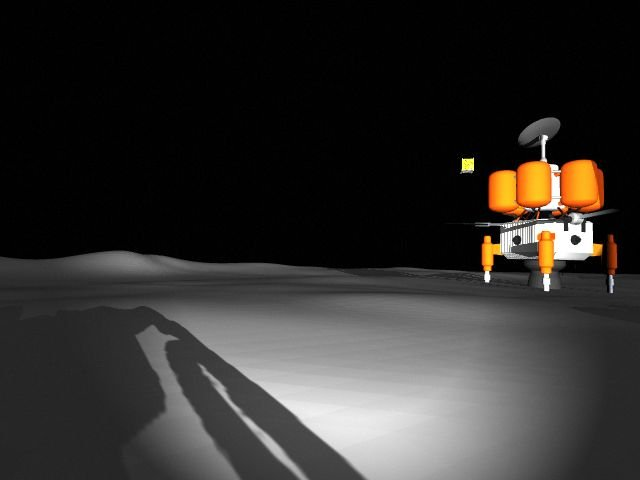cubesat: (455, 155, 478, 176)
